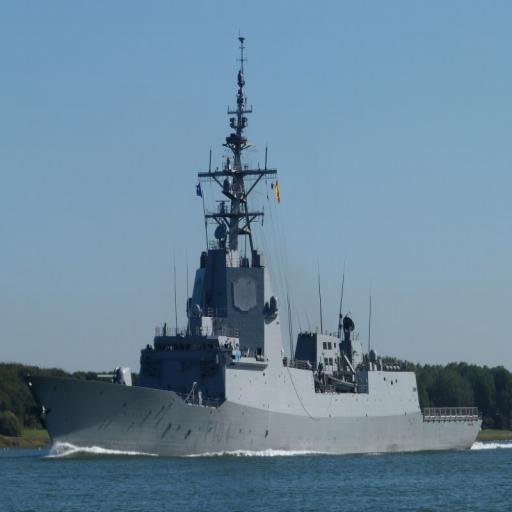Fragata: (19, 31, 482, 462)
